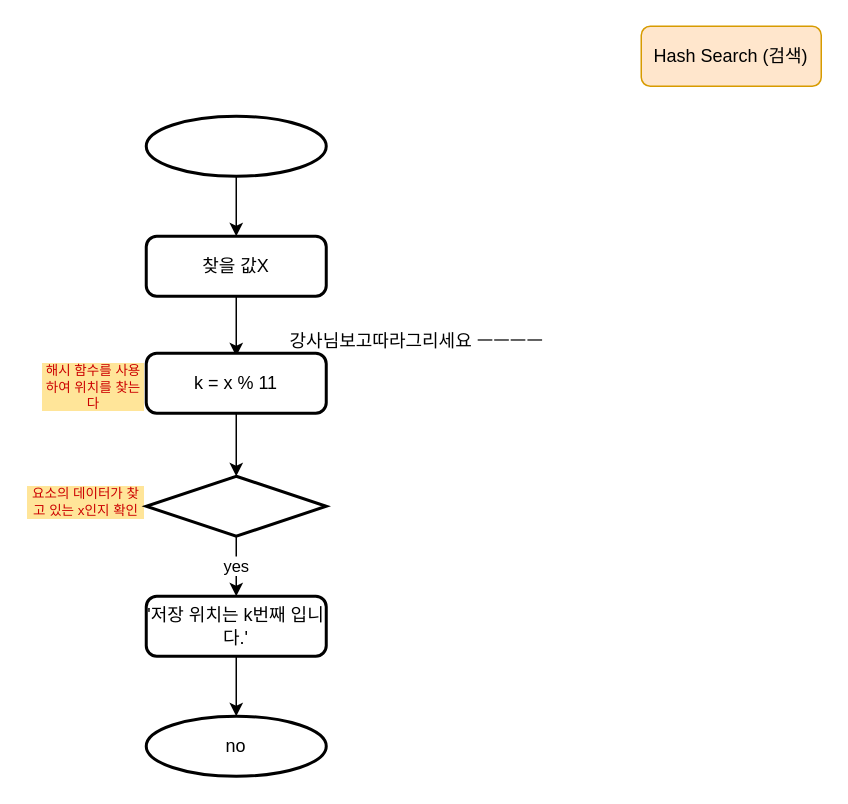
Image size: 848x804. Some labels were removed from this diagram. The box of each missing label's shape, as (x1, y1, x2, y2) in pixels:
arr[k] = x: (144, 474, 327, 537)
strat: (144, 114, 327, 177)
